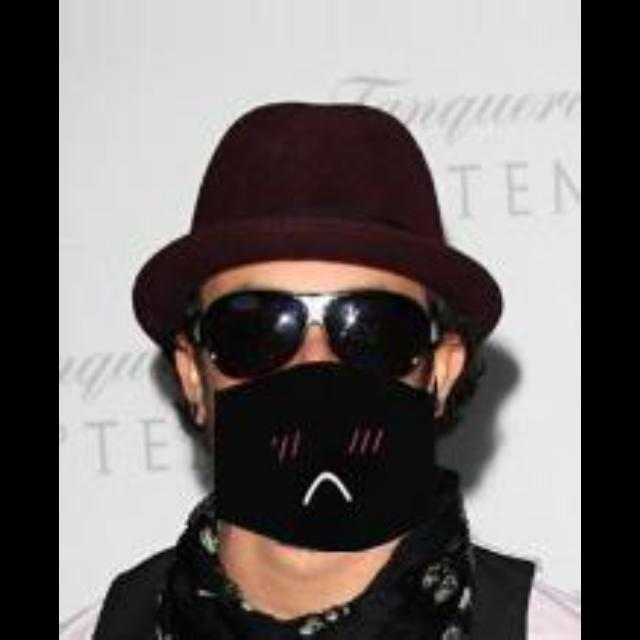suspicion: (157, 264, 509, 542)
